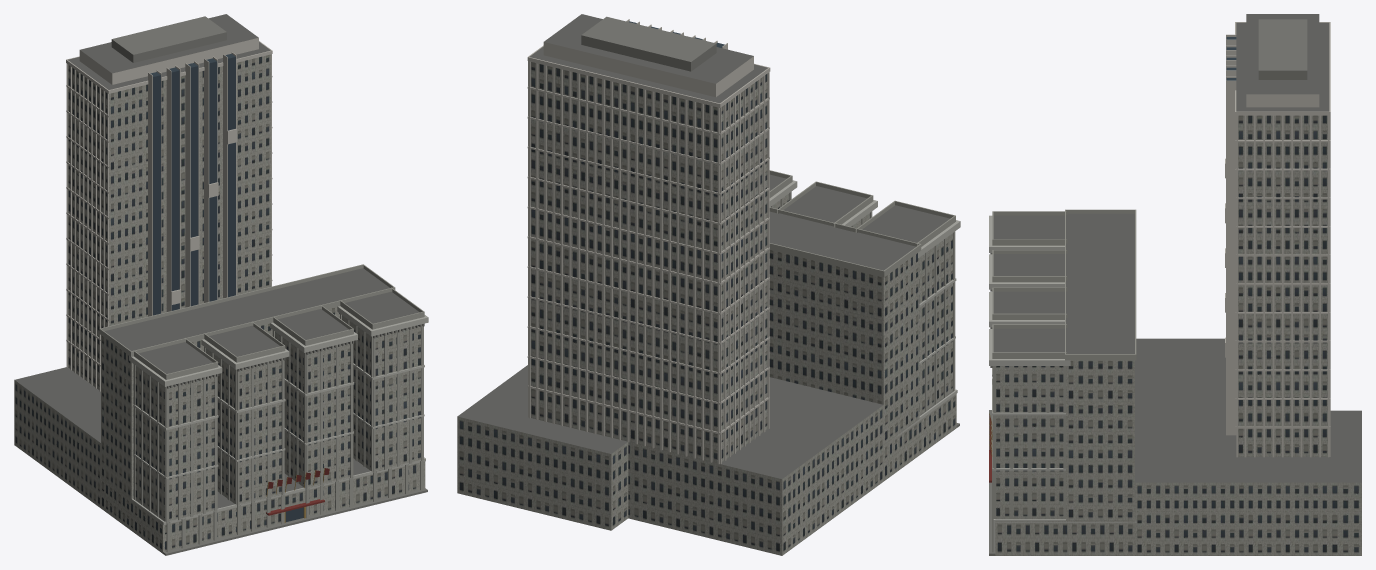
Rendered from westin_st_francis.glb.
The picture shows the model from 3 angles, left to right: view 1: azimuth 30°, elevation 25°; view 2: azimuth 150°, elevation 25°; view 3: azimuth 270°, elevation 25°; orthographic projection. The views are drawn at different scales.
Parts seen in each view (by area): view 1: westin_st_francis; view 2: westin_st_francis; view 3: westin_st_francis.
Part boxes in pixels (bbox=[...]): westin_st_francis: bbox=[14, 14, 428, 555]; westin_st_francis: bbox=[457, 14, 960, 555]; westin_st_francis: bbox=[989, 14, 1361, 555].
Bounding box in the file's own units: 84.6 × 120 × 92.01.
2 materials, 2 textured.
